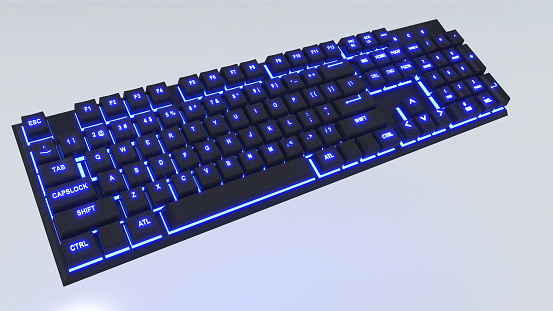keyboard: (15, 24, 514, 281)
